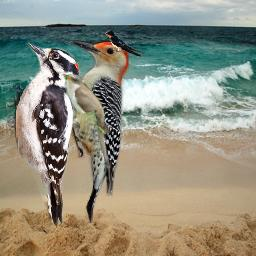Cuckoo: (59, 71, 112, 169)
Swallow: (103, 29, 146, 57)
Woodpecker: (36, 40, 129, 223), (6, 42, 81, 231)
